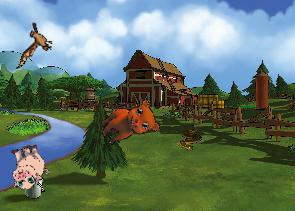bear: (94, 92, 165, 158)
eagle: (16, 21, 53, 69)
pig: (3, 141, 51, 191)
